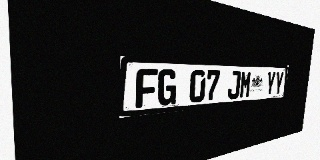0: (189, 70, 206, 103)
7: (205, 70, 220, 102)
F: (136, 68, 158, 108)
G: (157, 69, 177, 106)
J: (227, 70, 241, 100)
M: (239, 71, 252, 98)
Y: (265, 71, 276, 96), (274, 71, 284, 95)
